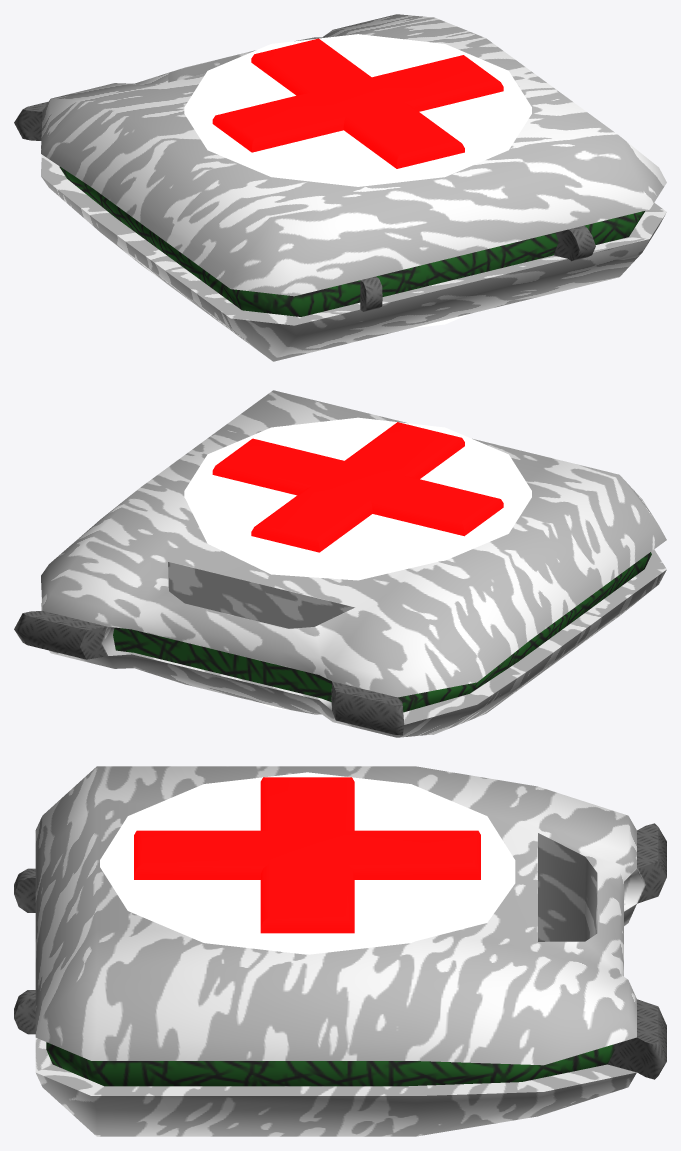
File: Medikit1.fbx
3 views of the same model, one above another, from view 1: azimuth 30°, elevation 25°; view 2: azimuth 150°, elevation 25°; view 3: azimuth 270°, elevation 25° (orthographic). The views are drawn at different scales.
Visible parts, largest first — view 1: Medikit1; view 2: Medikit1; view 3: Medikit1.
Boxes of the visible parts, x1,y1,x2,y2 form: Medikit1: [14, 14, 666, 361]; Medikit1: [14, 390, 666, 737]; Medikit1: [14, 766, 666, 1136].
Bounding box in the file's own units: 205 × 78.41 × 223.
